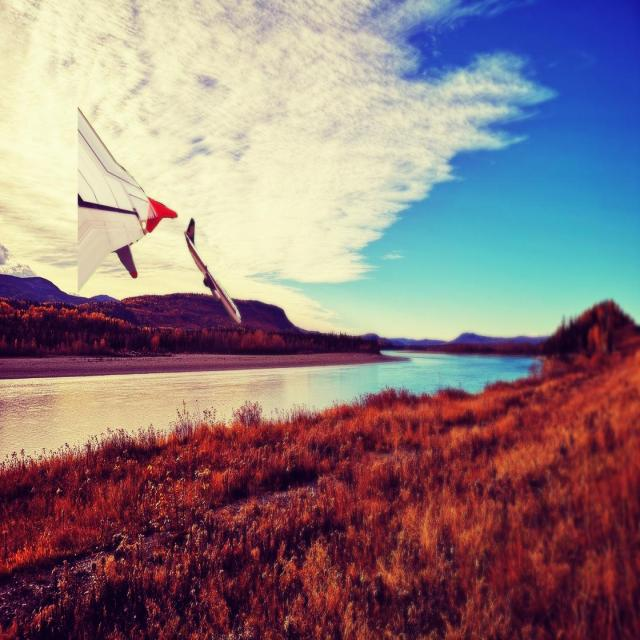airplane: (76, 106, 178, 292), (184, 217, 242, 323)
